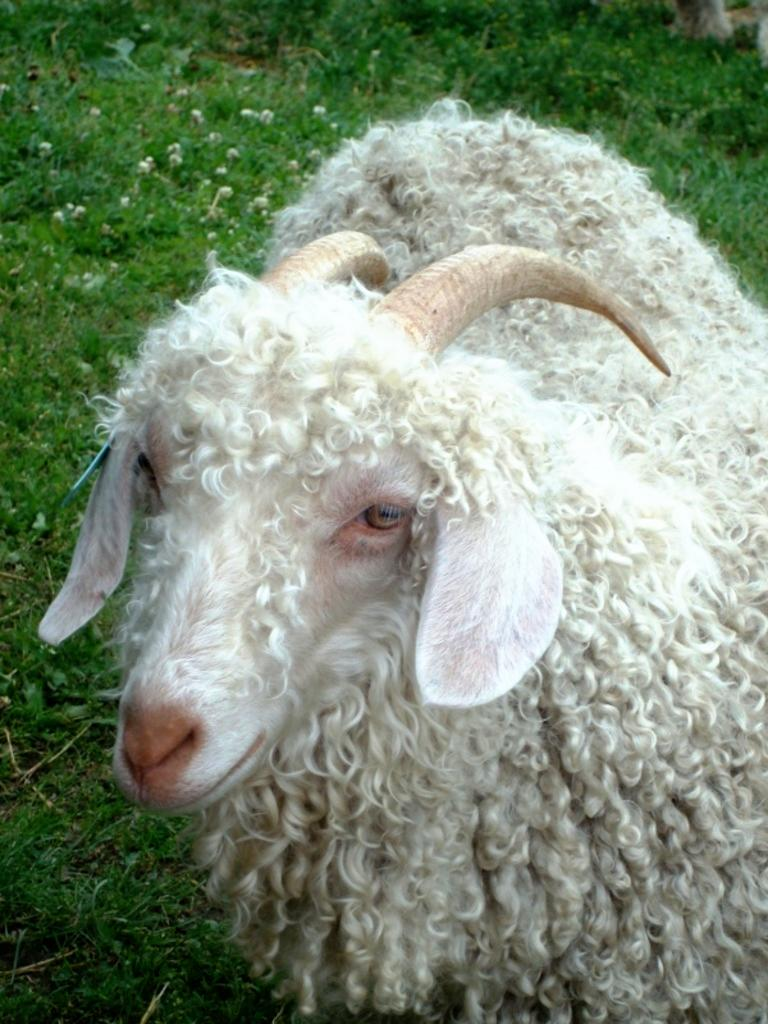Sheep: (41, 98, 767, 1022)
